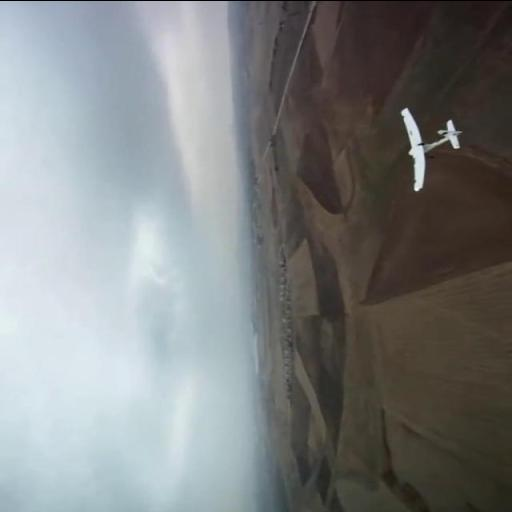uav: (398, 106, 460, 190)
